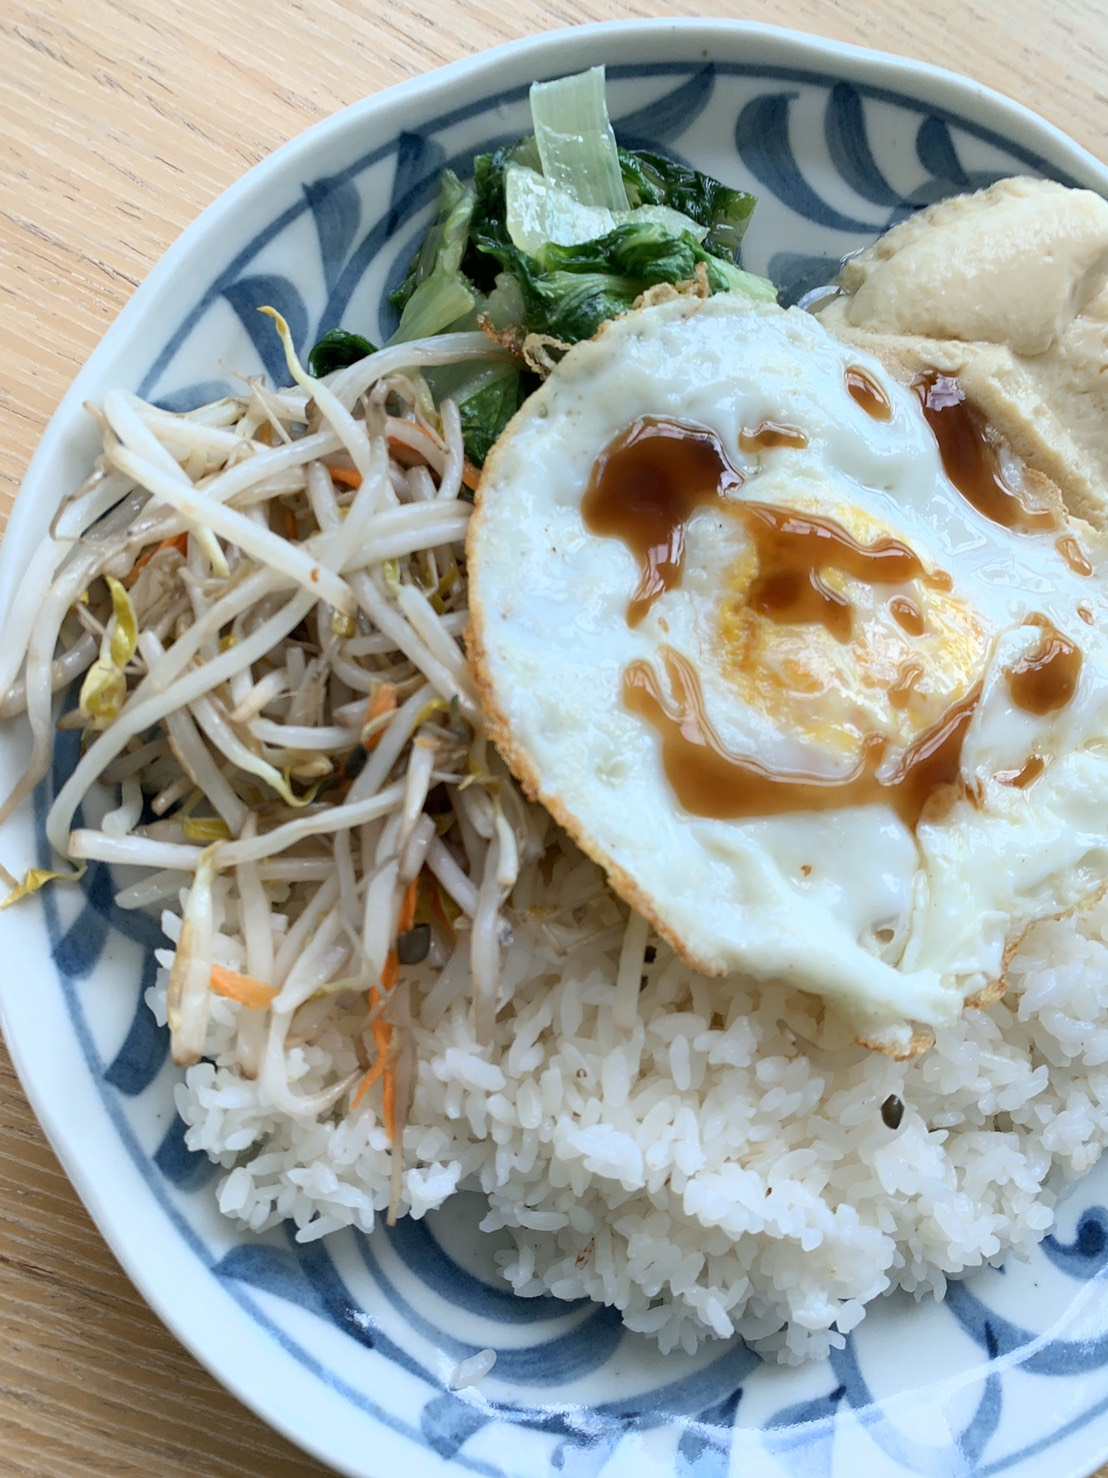fried_eggs: (534, 351, 1108, 958)
mung_bean_sprouts: (1, 322, 484, 946)
rice: (372, 951, 1108, 1310)
